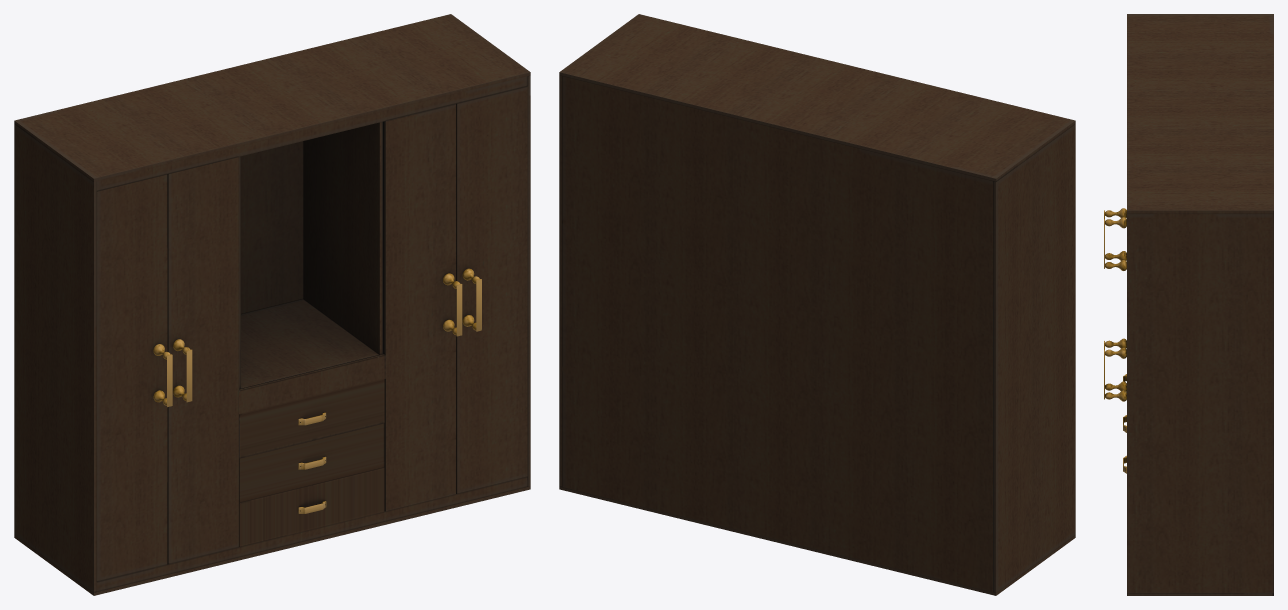
The model's file is Celestine_four_door_wardrobe.obj.
The picture shows the model from 3 angles, left to right: view 1: azimuth 30°, elevation 25°; view 2: azimuth 150°, elevation 25°; view 3: azimuth 270°, elevation 25°; orthographic projection. The views are drawn at different scales.
Parts seen in each view (by area): view 1: Four_door_wardrobe_mesh_001, Four_door_wardrobe_mesh_003, Four_door_wardrobe_mesh_002, Four_door_wardrobe_mesh_004, Four_door_wardrobe_handles; view 2: Four_door_wardrobe_mesh_001; view 3: Four_door_wardrobe_mesh_001, Four_door_wardrobe_handles.
Part boxes in pixels (box(x1,y1,x2,y2)): Four_door_wardrobe_mesh_001: box(14, 14, 530, 595); Four_door_wardrobe_mesh_003: box(239, 423, 384, 502); Four_door_wardrobe_mesh_002: box(239, 467, 384, 546); Four_door_wardrobe_mesh_004: box(239, 379, 384, 458); Four_door_wardrobe_handles: box(153, 268, 481, 407); Four_door_wardrobe_mesh_001: box(559, 14, 1075, 595); Four_door_wardrobe_mesh_001: box(1127, 14, 1273, 595); Four_door_wardrobe_handles: box(1104, 208, 1126, 401).
Size of the model in its own units: 222 by 202 by 80.93.
